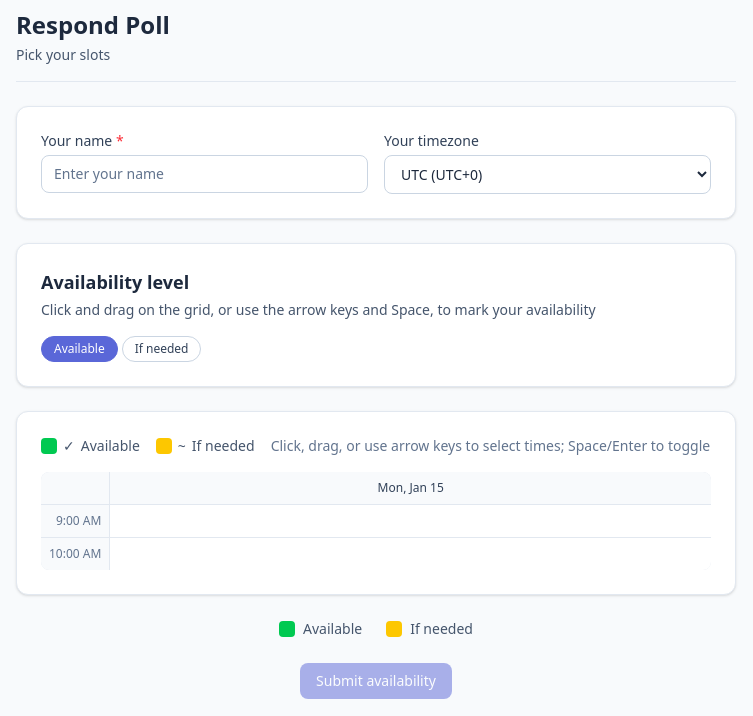
Test case: PollRespond - submission › returns to the form when clicking Edit Response from the success screen
This screenshot has width=753, height=716.
Step 1. Type "Dave" into the field labelled "Your name *" → (204, 174), box [41,155,368,193]
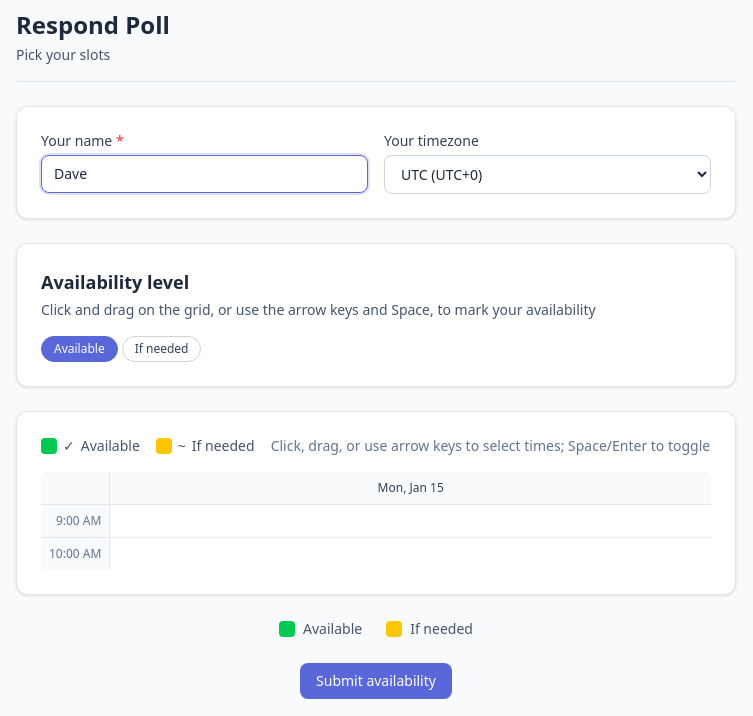
Step 2. Click the button "Submit availability" → (376, 681), box [300,663,452,699]
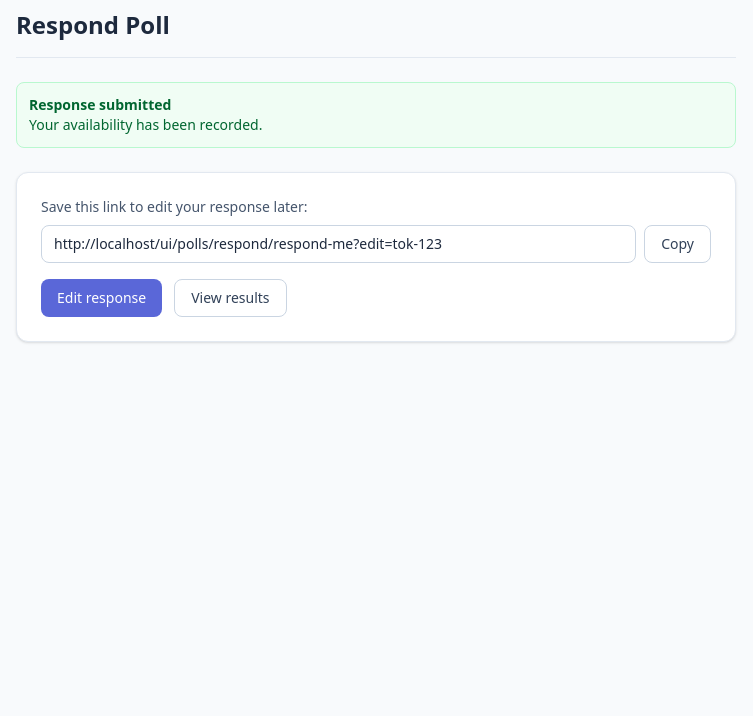
Expected: the heading "Response submitted" is shown, [29,95,171,114]
Step 3. Click the button "Edit response" → (102, 298), box [41,279,162,317]
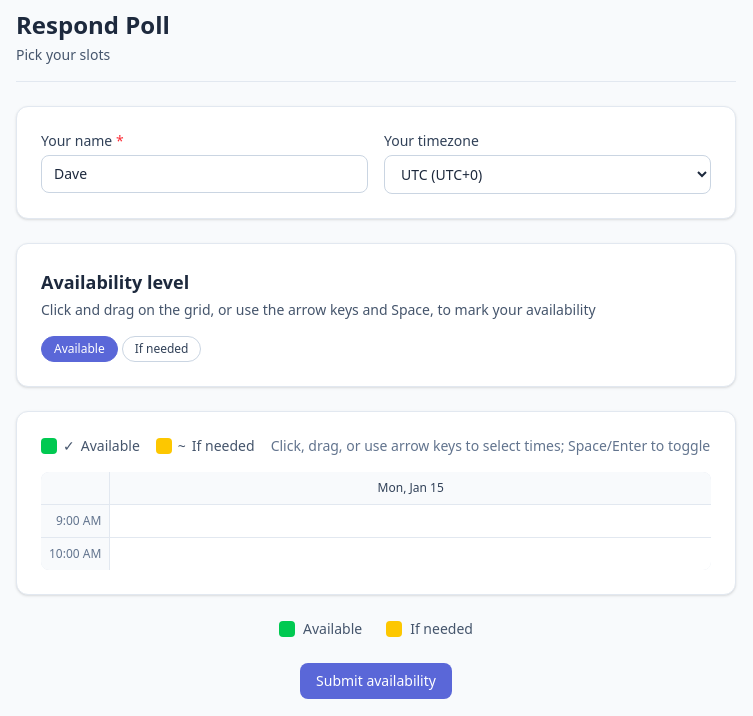
Expected: the button "Submit availability" is shown, [300,663,452,699]
